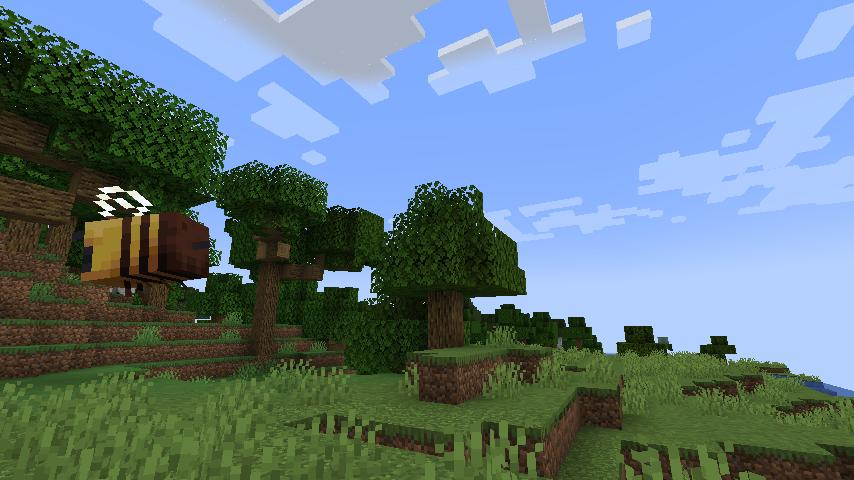bee: (74, 182, 212, 297)
